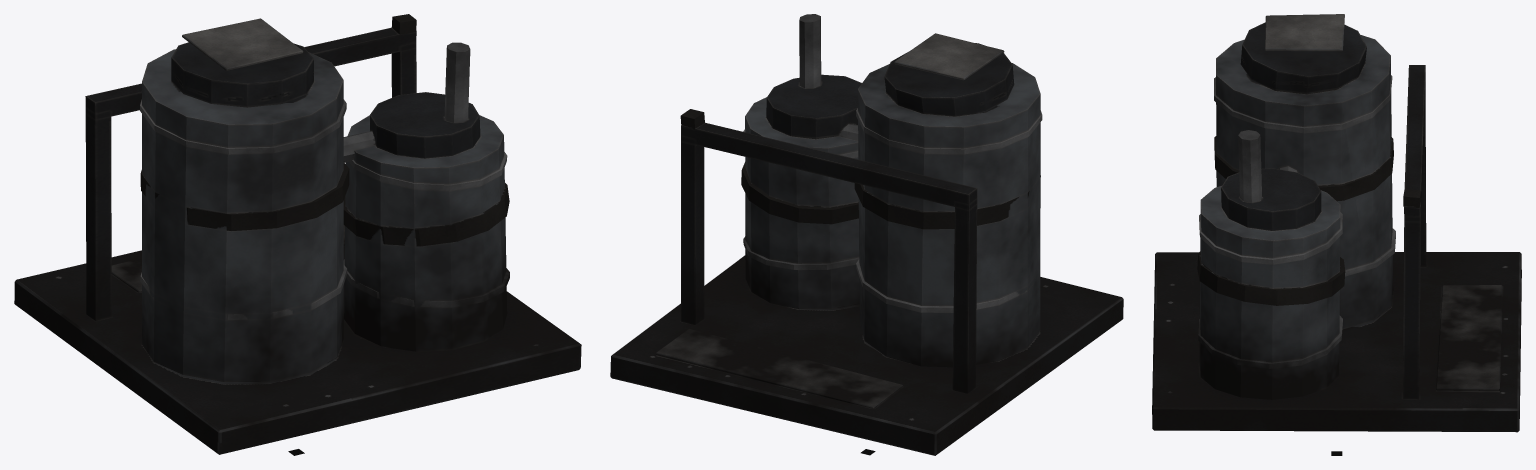
Rendered from chs_generator_wreck.fbx.
3 views of the same model, side by side, from view 1: azimuth 30°, elevation 25°; view 2: azimuth 150°, elevation 25°; view 3: azimuth 270°, elevation 25° (orthographic). The views are drawn at different scales.
Visible parts, largest first — view 1: base_bar; view 2: base_bar; view 3: base_bar.
Part boxes in pixels (left/top/right/bottom): base_bar: left=14, top=14, right=581, bottom=454; base_bar: left=610, top=14, right=1123, bottom=455; base_bar: left=1152, top=14, right=1521, bottom=432.
Size of the model in its own units: 666 by 776 by 663.
2 materials, 2 textured.
